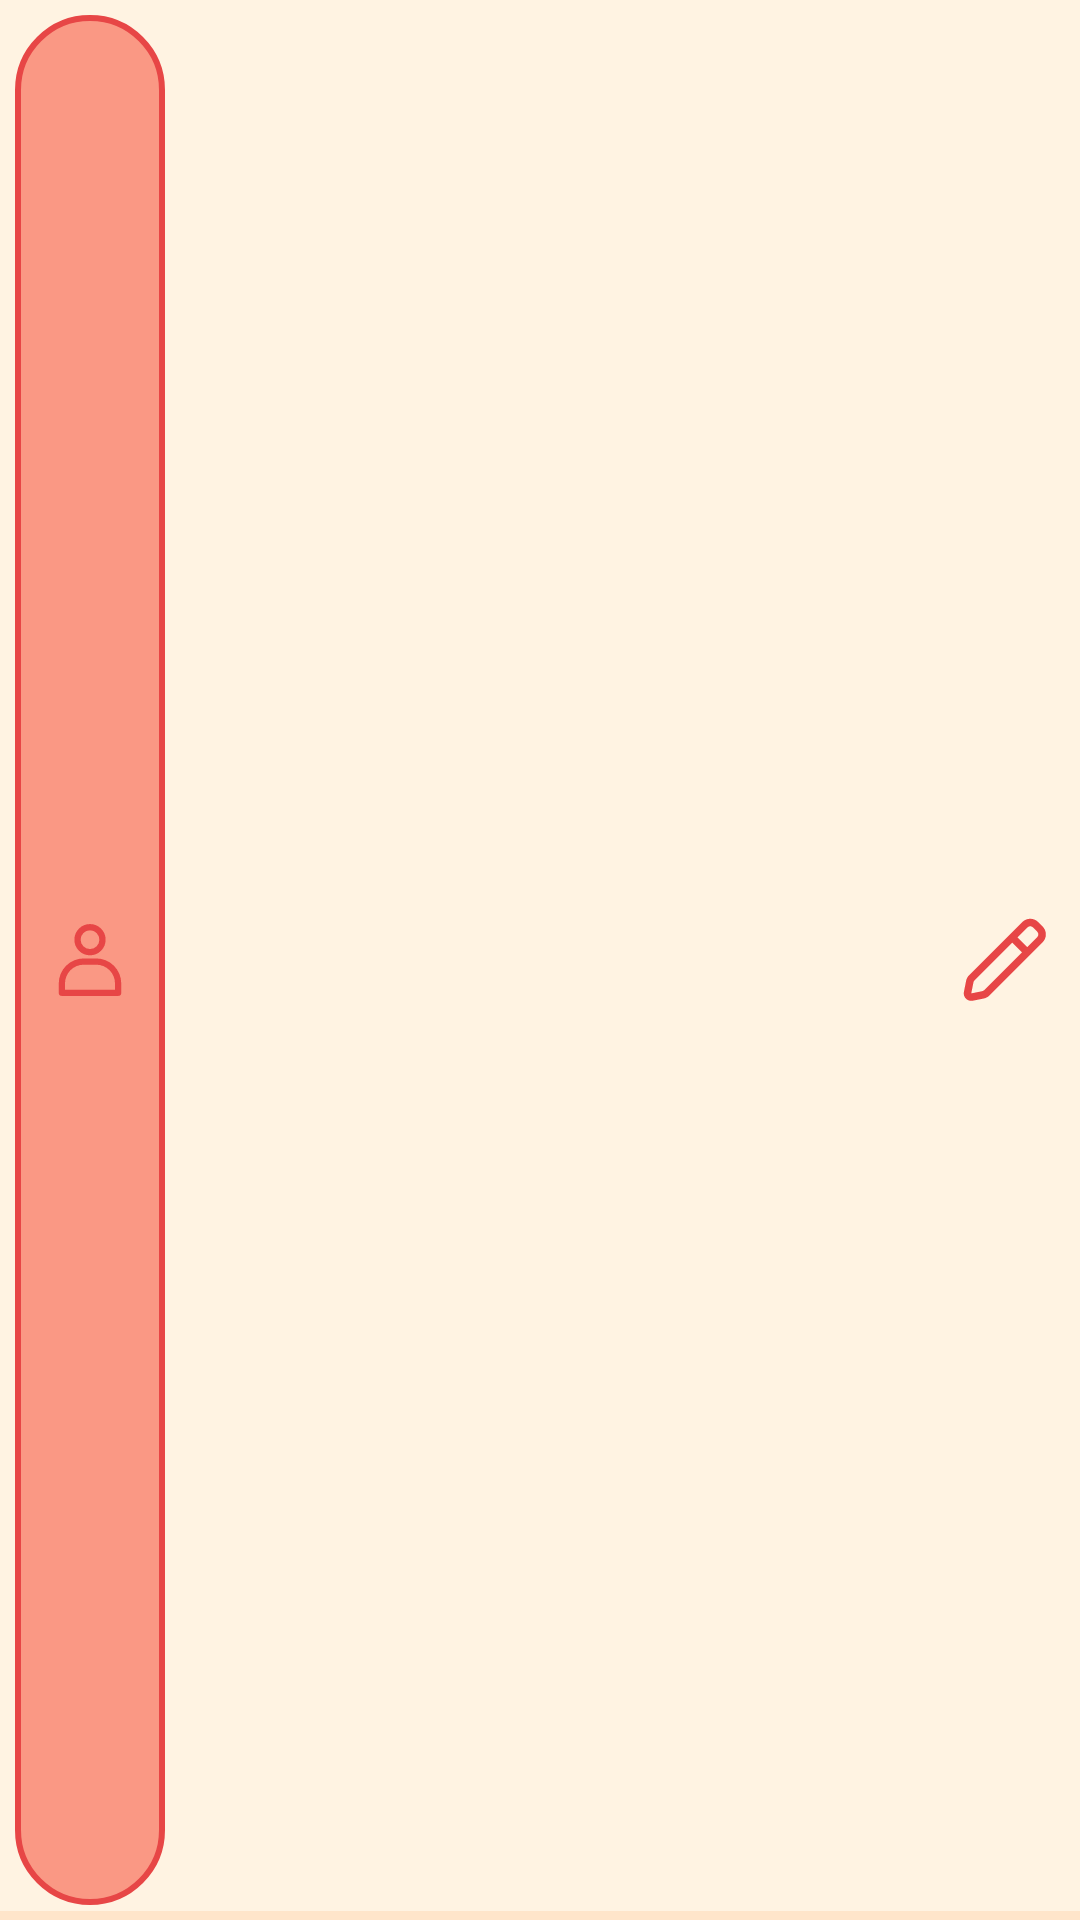

Icons on this 1080 x 1920 Android screen, each with the point to tap as [x,y]:
Edit: [1004,959]
